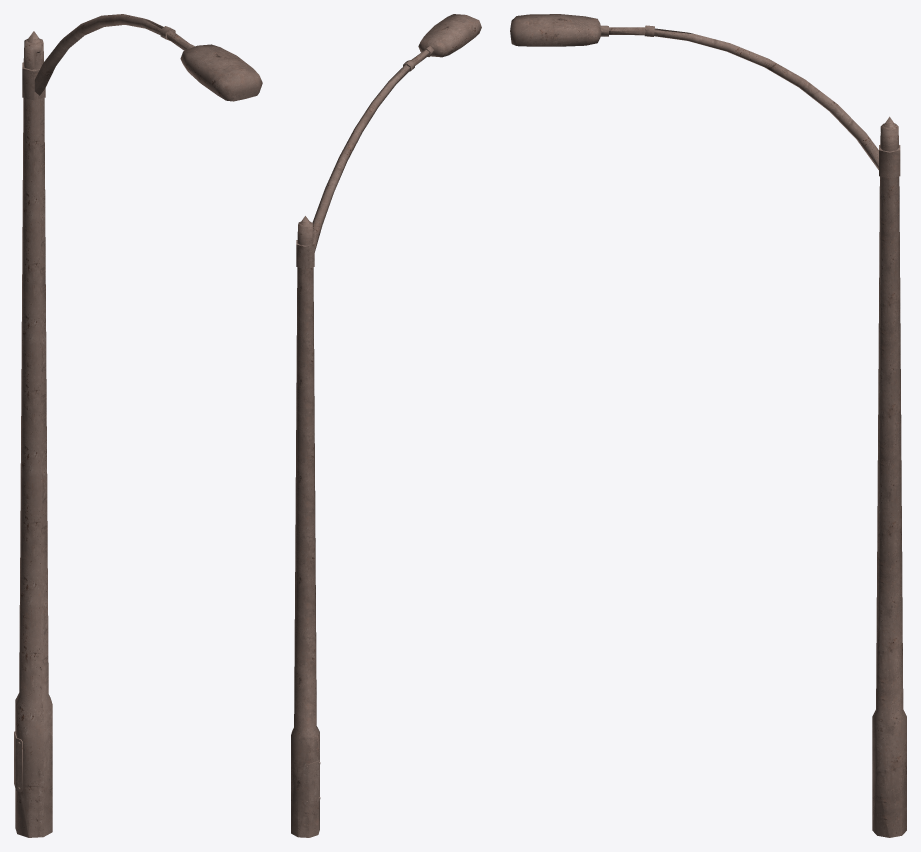
The model's file is Lamp-post.fbx.
3 views of the same model, side by side, from view 1: azimuth 30°, elevation 25°; view 2: azimuth 150°, elevation 25°; view 3: azimuth 270°, elevation 25° (orthographic). The views are drawn at different scales.
Parts seen in each view (by area): view 1: Group1; view 2: Group1; view 3: Group1.
Part boxes in pixels (x1,y1,x2,y2): Group1: (14, 14, 262, 837); Group1: (291, 14, 481, 837); Group1: (510, 14, 906, 837).
Size of the model in its own units: 475 by 9454 by 4188.
